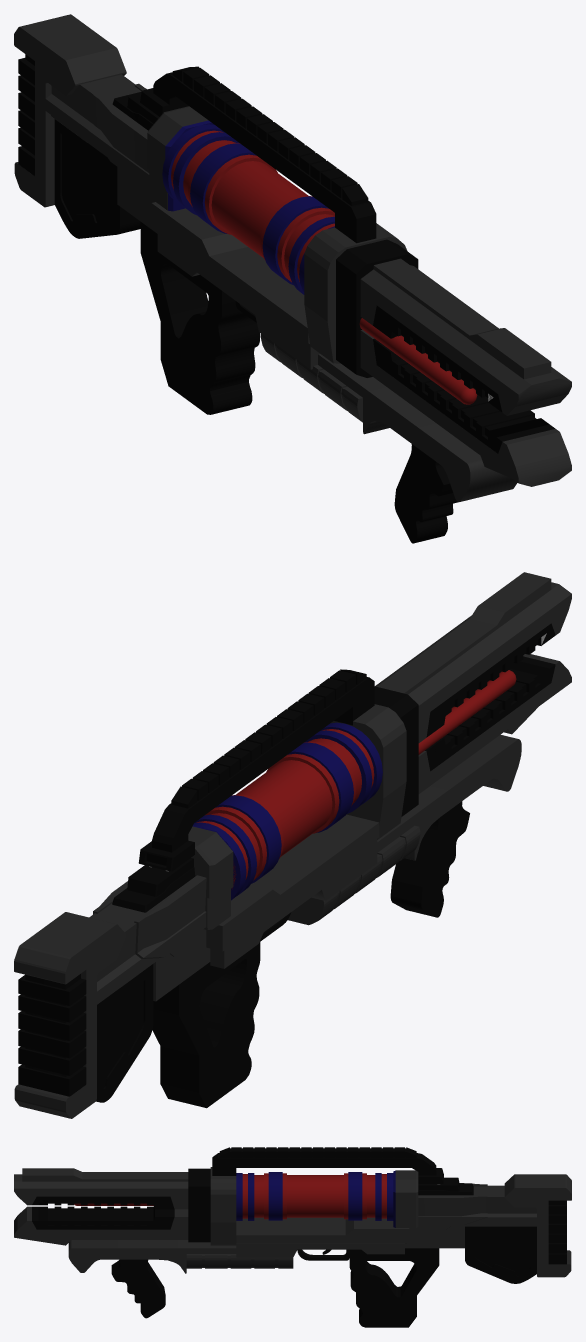
Rendered from asalto.obj.
3 renders of one model, top to bottom at view 1: azimuth 30°, elevation 25°; view 2: azimuth 150°, elevation 25°; view 3: azimuth 270°, elevation 25°, orthographic. The views are drawn at different scales.
Visible parts, largest first — view 1: Box001; view 2: Box001; view 3: Box001.
Part boxes in pixels (x1,y1,x2,y2): Box001: (14,14,571,543); Box001: (14,572,571,1118); Box001: (14,1147,571,1327).
Size of the model in its own units: 230 by 863 by 2520.
